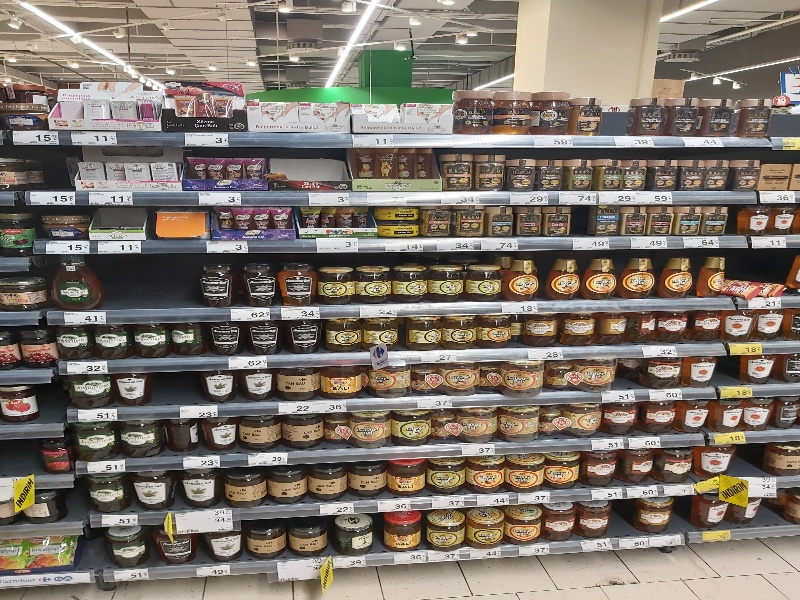product: (43, 53, 162, 126), (248, 73, 355, 127), (348, 78, 455, 132), (161, 67, 246, 129), (71, 150, 187, 194), (345, 145, 442, 191), (184, 147, 266, 195), (82, 205, 156, 245), (46, 257, 99, 310), (453, 74, 497, 130), (492, 73, 536, 129), (530, 75, 574, 131), (620, 89, 670, 138), (142, 204, 207, 241), (194, 252, 233, 305), (238, 254, 277, 307), (275, 250, 314, 303), (317, 250, 356, 303), (356, 250, 395, 303), (389, 250, 428, 303), (426, 248, 465, 301), (465, 247, 504, 300), (503, 246, 542, 299), (543, 248, 582, 301), (581, 246, 620, 299), (619, 247, 658, 300), (653, 245, 692, 298), (690, 246, 729, 299), (244, 517, 291, 560), (222, 465, 271, 506), (104, 525, 150, 568), (152, 522, 198, 565), (198, 522, 244, 565), (285, 516, 331, 559), (328, 510, 374, 553), (380, 507, 426, 550), (421, 505, 467, 548), (461, 502, 507, 545), (499, 501, 545, 544), (533, 497, 579, 540), (571, 495, 617, 538), (569, 84, 608, 132), (666, 86, 705, 134), (698, 89, 737, 137), (733, 88, 772, 136), (267, 465, 311, 506), (306, 460, 350, 501), (345, 458, 389, 499), (384, 456, 428, 497), (421, 455, 465, 496), (464, 455, 508, 496), (505, 452, 549, 493), (541, 450, 585, 491), (575, 449, 619, 490), (351, 406, 396, 446), (388, 407, 433, 447), (440, 143, 478, 190), (473, 146, 511, 193), (271, 366, 322, 401), (314, 365, 365, 400), (361, 362, 412, 397), (632, 495, 674, 537), (688, 490, 730, 532), (281, 411, 325, 450), (498, 358, 547, 393), (63, 373, 116, 405), (111, 372, 164, 404), (192, 368, 245, 400), (539, 355, 580, 396), (574, 354, 615, 395), (617, 448, 660, 487), (655, 445, 698, 484), (696, 443, 739, 482), (757, 441, 800, 480), (52, 320, 94, 357), (92, 320, 134, 357), (131, 320, 173, 357), (165, 321, 207, 358), (204, 317, 246, 354), (241, 315, 283, 352), (278, 316, 320, 353), (322, 313, 364, 350), (360, 314, 402, 351), (401, 316, 443, 353), (436, 311, 478, 348), (476, 309, 518, 346), (733, 201, 773, 238), (236, 416, 283, 447), (459, 406, 503, 439), (495, 407, 539, 440), (644, 354, 686, 388), (679, 352, 721, 386), (734, 351, 776, 385), (74, 421, 116, 455), (120, 419, 162, 453), (84, 475, 126, 509), (131, 471, 173, 505), (174, 468, 216, 502), (752, 304, 789, 342), (167, 417, 208, 451), (369, 200, 422, 226), (373, 218, 426, 244), (407, 362, 446, 397), (443, 361, 482, 396), (40, 205, 84, 236), (722, 304, 756, 344), (324, 408, 356, 450), (567, 401, 604, 437), (602, 397, 639, 433), (643, 397, 680, 433), (678, 398, 715, 434), (421, 200, 455, 239), (454, 202, 488, 241), (482, 198, 516, 237), (512, 200, 546, 239), (539, 201, 573, 240), (591, 201, 625, 240), (618, 201, 652, 240), (641, 204, 675, 243), (670, 200, 704, 239), (697, 199, 731, 238), (503, 154, 537, 191), (531, 153, 565, 190), (563, 153, 597, 190), (592, 153, 626, 190), (616, 152, 650, 189), (645, 153, 679, 190), (672, 155, 706, 192), (726, 153, 760, 190), (696, 152, 730, 189), (563, 314, 602, 345), (596, 310, 635, 341), (205, 417, 240, 450), (757, 160, 793, 191), (771, 199, 800, 237), (534, 404, 566, 438), (237, 368, 272, 399), (433, 406, 463, 442), (709, 399, 745, 428), (657, 311, 691, 341), (689, 309, 723, 339), (519, 313, 558, 339), (739, 400, 776, 427), (202, 203, 231, 237), (228, 204, 257, 238), (244, 202, 273, 236), (263, 205, 292, 239), (628, 314, 660, 343)
